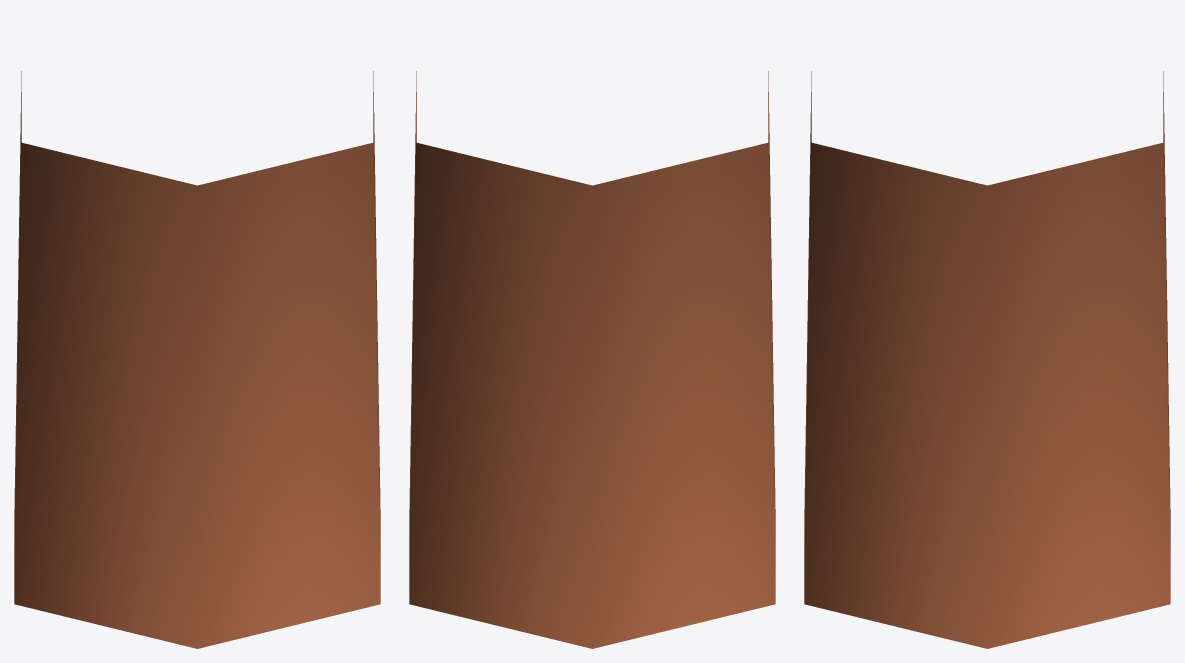
The model's file is LGT_SteamVent.glb.
3 views of the same model, side by side, from view 1: azimuth 30°, elevation 25°; view 2: azimuth 150°, elevation 25°; view 3: azimuth 270°, elevation 25° (orthographic).
Parts seen in each view (by area): view 1: LGT_SteamVent; view 2: LGT_SteamVent; view 3: LGT_SteamVent.
Part boxes in pixels (<box>): LGT_SteamVent: <box>14,71,380,648</box>; LGT_SteamVent: <box>409,71,775,648</box>; LGT_SteamVent: <box>804,71,1170,648</box>.
Bounding box in the file's own units: 0.25 × 0.3 × 0.2165.
Materials: 1 (1 with a texture image).
